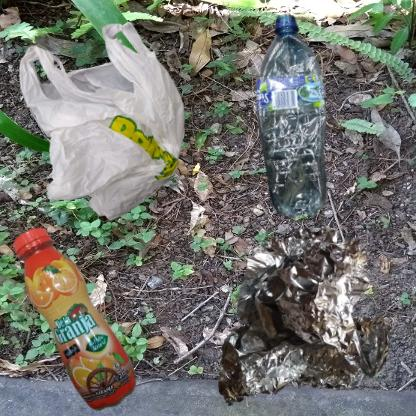aluminio: (213, 213, 410, 416)
bolsa: (10, 10, 219, 249)
botella: (213, 10, 410, 269), (10, 213, 160, 416)
